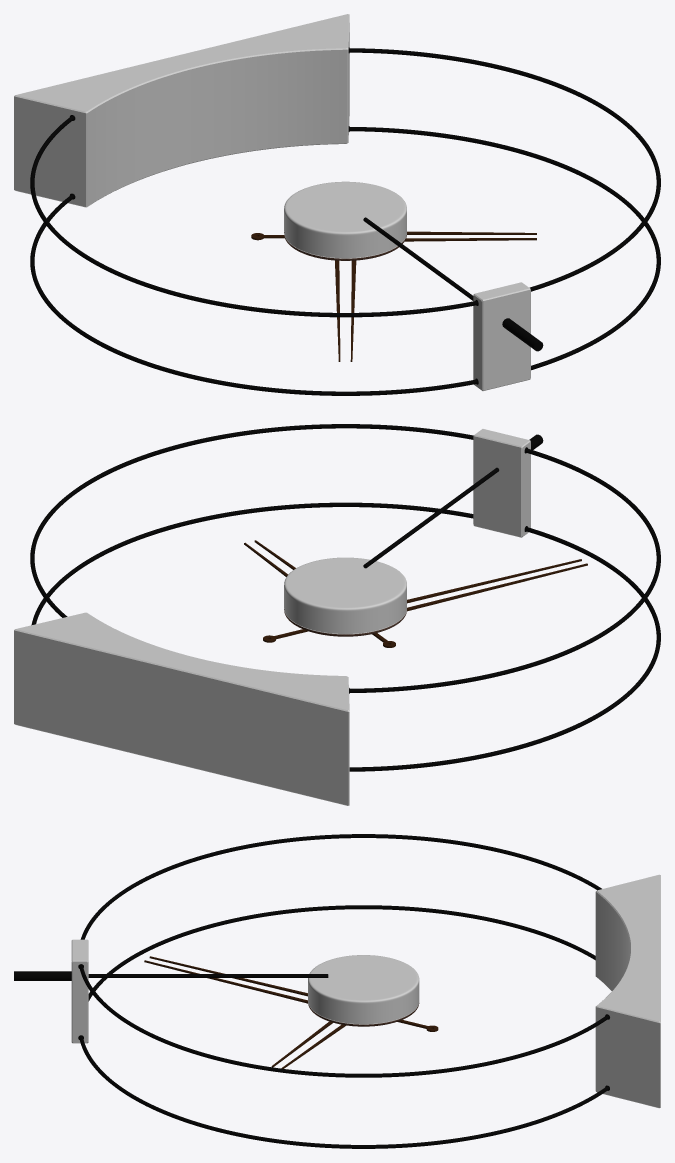
The model's file is Nomon_Double_Rings_Desk_Clock_mat(1).obj.
The picture shows the model from 3 angles, top to bottom: view 1: azimuth 30°, elevation 25°; view 2: azimuth 150°, elevation 25°; view 3: azimuth 270°, elevation 25°; orthographic projection. The views are drawn at different scales.
Parts seen in each view (by area): view 1: Nomon_Double_Rings_Desk_Clock_mat1; view 2: Nomon_Double_Rings_Desk_Clock_mat1; view 3: Nomon_Double_Rings_Desk_Clock_mat1.
Part boxes in pixels (bbox=[...]): Nomon_Double_Rings_Desk_Clock_mat1: bbox=[14, 14, 660, 395]; Nomon_Double_Rings_Desk_Clock_mat1: bbox=[14, 424, 660, 805]; Nomon_Double_Rings_Desk_Clock_mat1: bbox=[14, 834, 660, 1148].
Size of the model in its own units: 50.06 by 8.38 by 56.7.
